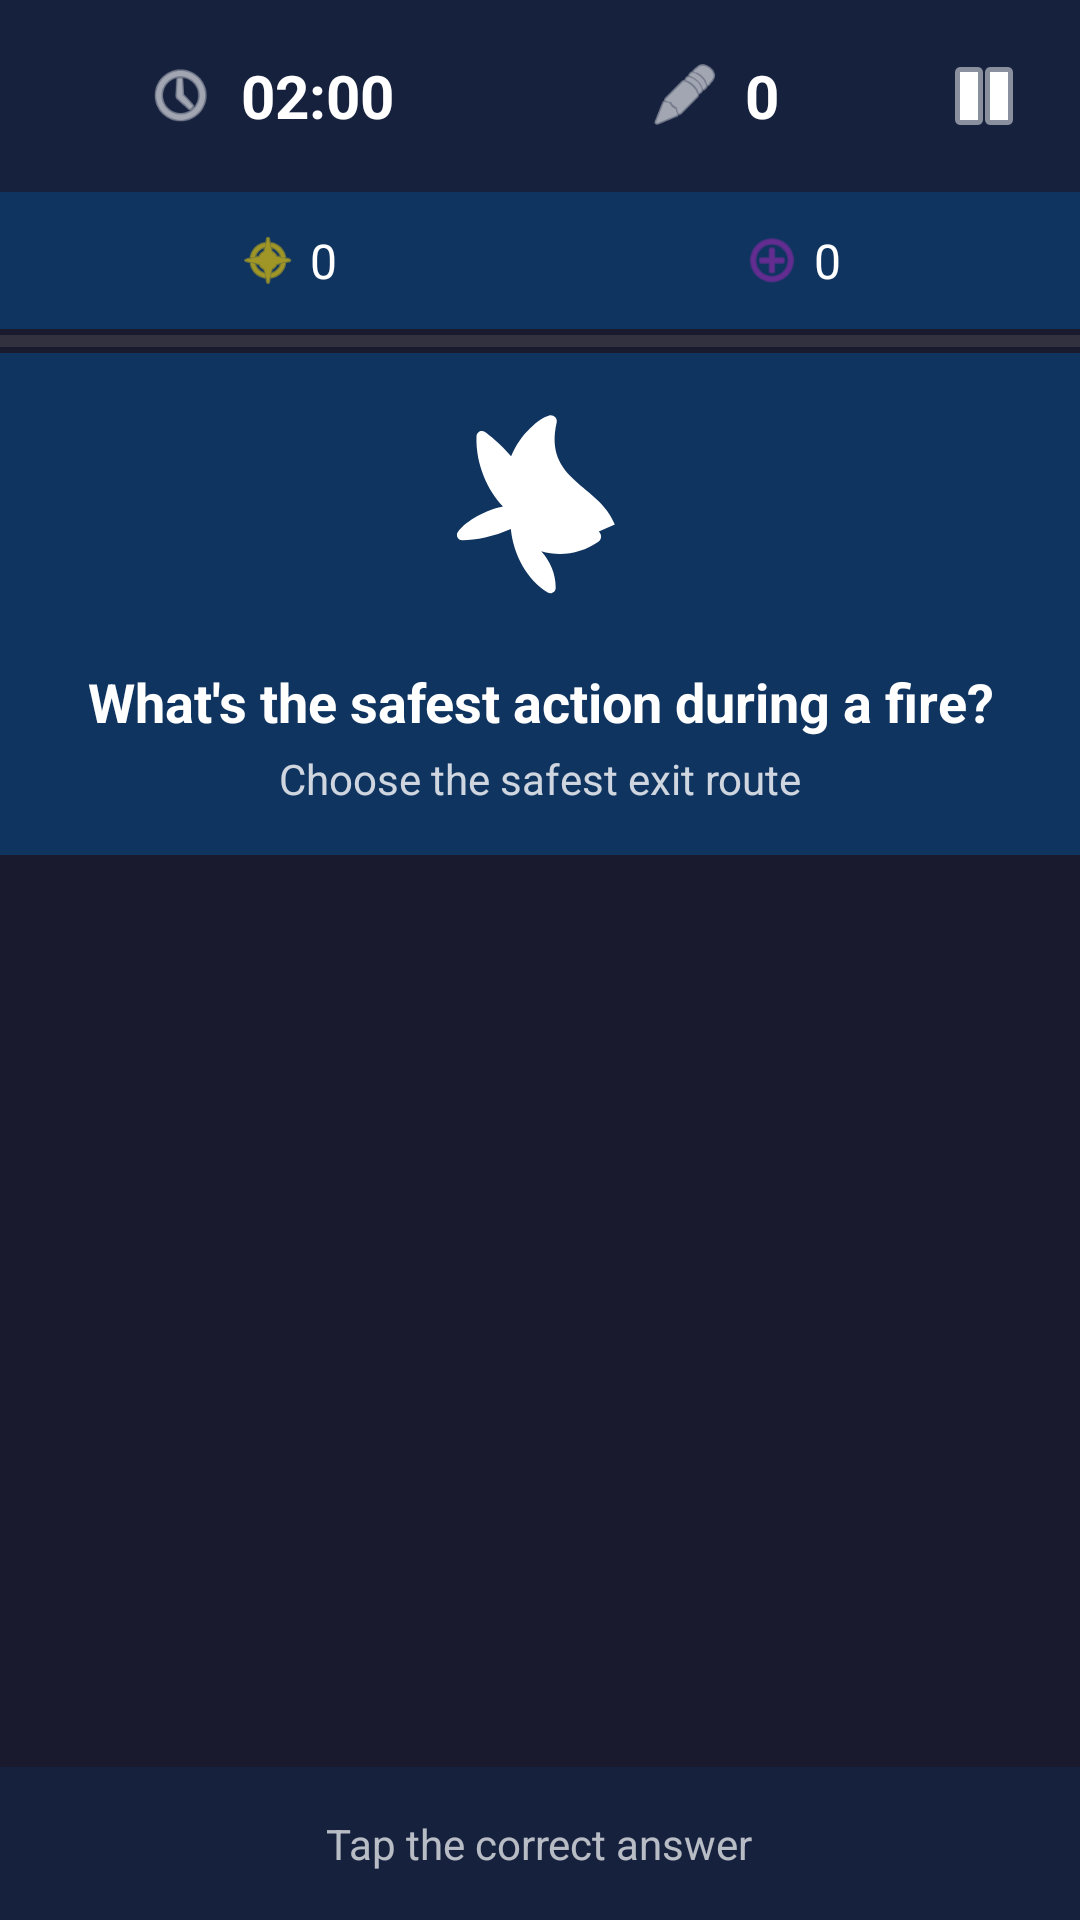

Point at icon controls on the screen. Image size 1080w x 1920h, points as [x,y].
add: [772,260]
edit: [684,94]
pause: [984,96]
recent history: [181,95]
